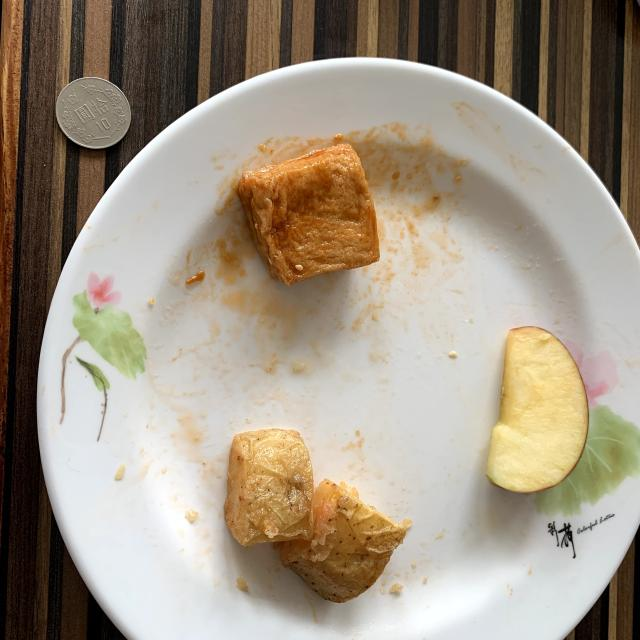apple -sliced-: (486, 326, 589, 492)
coin: (55, 78, 131, 149)
creamy tofu: (239, 144, 380, 286)
fried potato: (224, 429, 406, 602)
